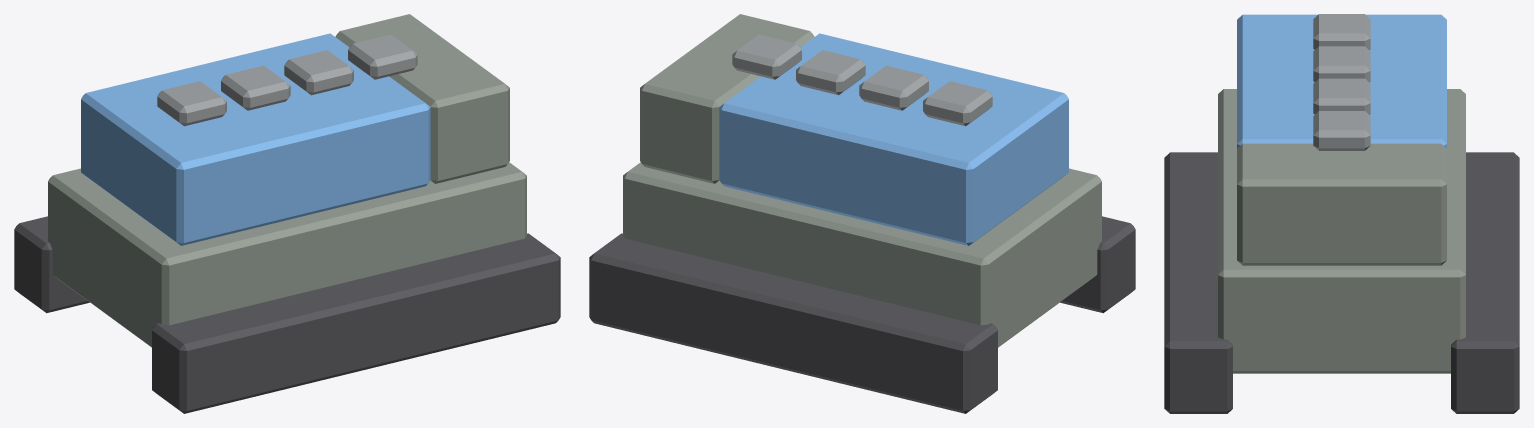
Rendered from hive.glb.
3 renders of one model, left to right at view 1: azimuth 30°, elevation 25°; view 2: azimuth 150°, elevation 25°; view 3: azimuth 270°, elevation 25°, orthographic. The views are drawn at different scales.
Parts seen in each view (by area): view 1: coalition_hive; view 2: coalition_hive; view 3: coalition_hive.
Part boxes in pixels (x1,y1,x2,y2): coalition_hive: (14, 14, 560, 413); coalition_hive: (589, 14, 1135, 413); coalition_hive: (1164, 14, 1519, 413).
Size of the model in its own units: 2.4 by 1.43 by 1.86.
